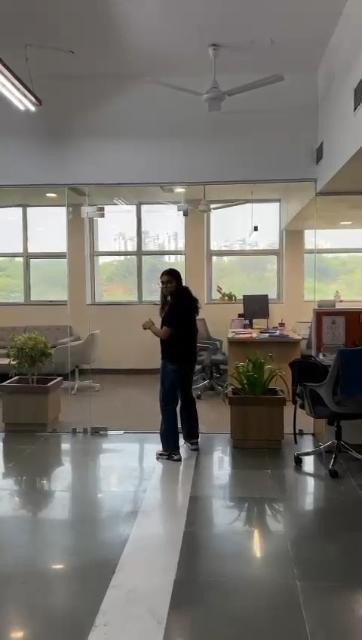floor: (0, 486, 362, 640), (81, 368, 144, 488)
moving-obj: (148, 238, 225, 464)
object: (290, 335, 362, 481), (0, 334, 82, 452), (222, 348, 290, 468), (0, 325, 103, 369), (240, 292, 276, 332)
wall: (282, 190, 308, 316), (100, 306, 144, 364), (68, 209, 88, 327), (188, 216, 206, 294), (0, 306, 70, 322)
